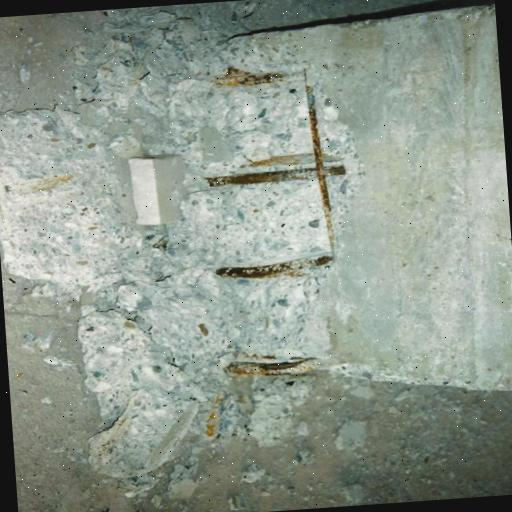spalling: (188, 55, 366, 379)
